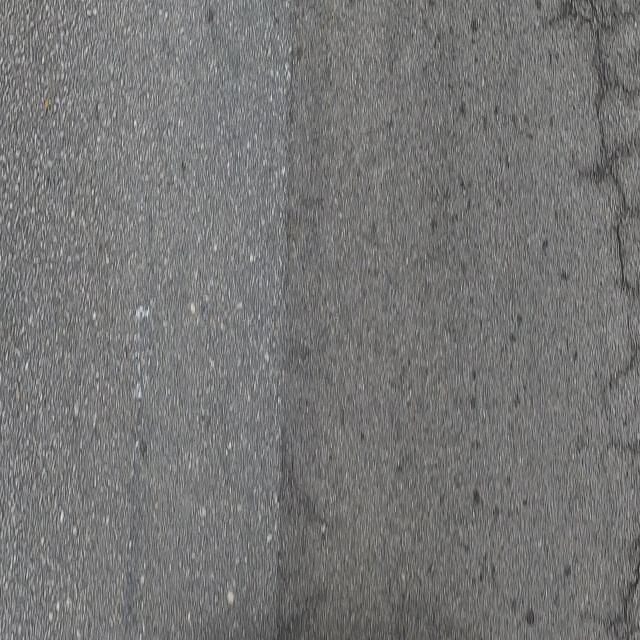Retak-Buaya: (545, 0, 640, 467)
